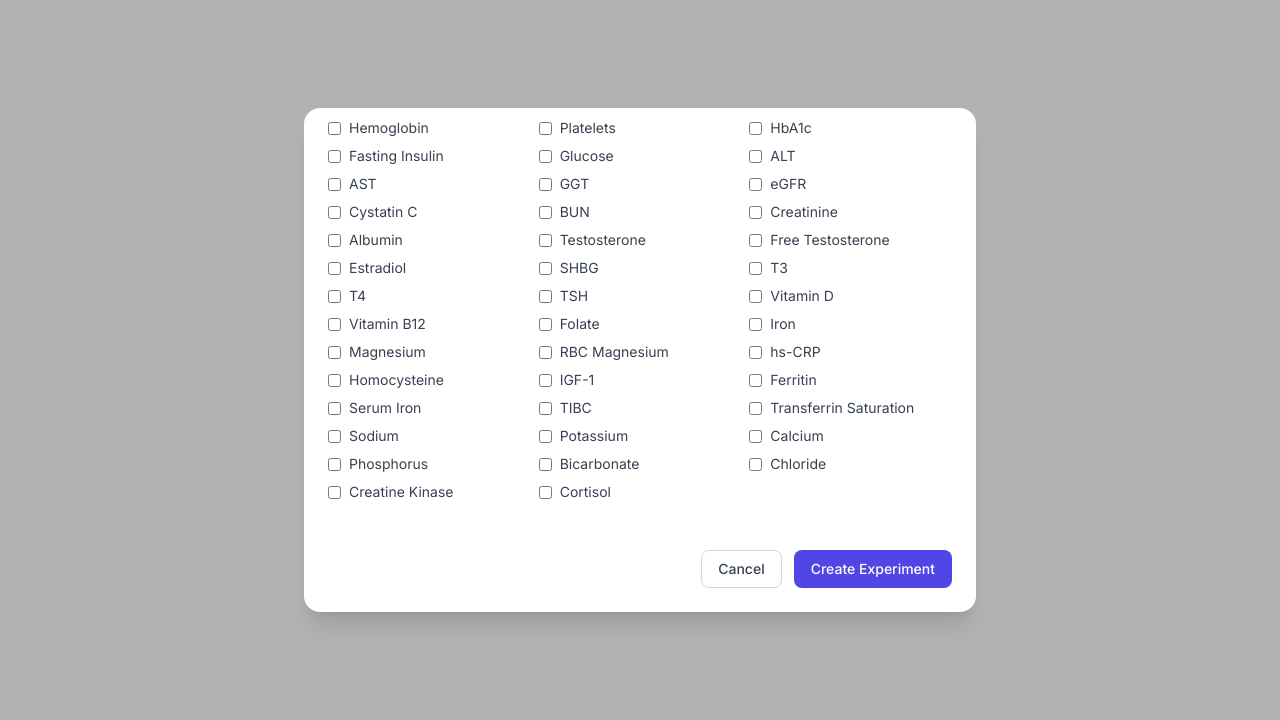
Test case: AddExperimentModal › validates required fields - name
(page scrolled)
Step 1. Click the button "Create Experiment" → (873, 569), box [794,550,952,588]
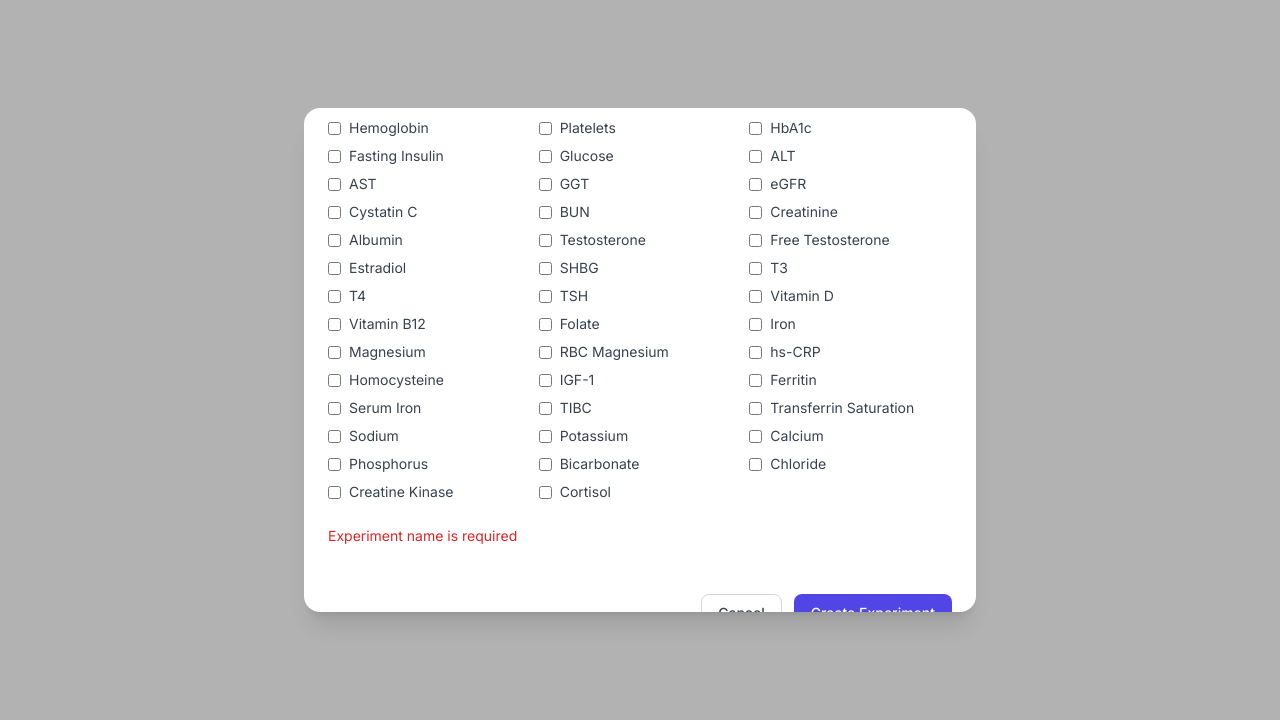
Check: the text "Experiment name is required" is shown, box [328,527,517,544]
